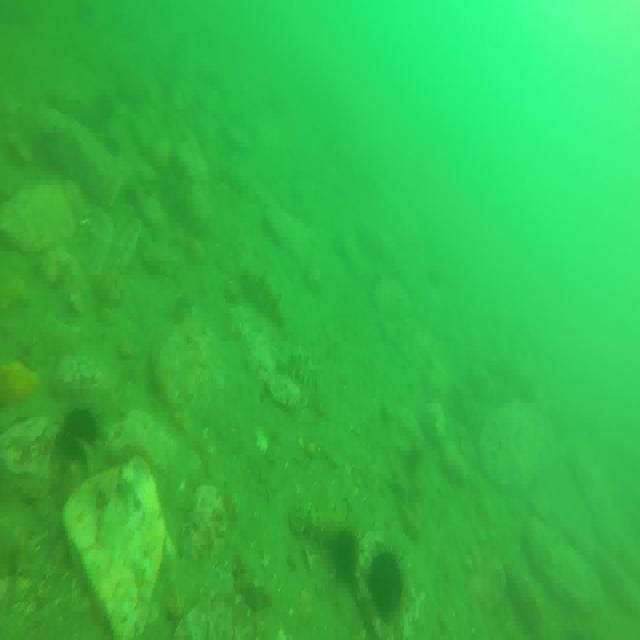echinus: (371, 551, 406, 615), (63, 404, 98, 455), (326, 527, 359, 577)
holothurian: (291, 496, 336, 554), (276, 348, 316, 384)
